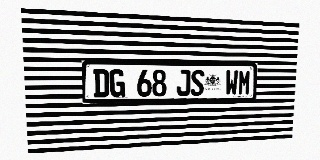6: (137, 69, 152, 97)
8: (152, 69, 167, 97)
D: (93, 69, 109, 98)
G: (109, 69, 125, 97)
J: (176, 70, 190, 96)
M: (238, 70, 251, 95)
S: (190, 70, 204, 96)
W: (225, 70, 238, 95)
